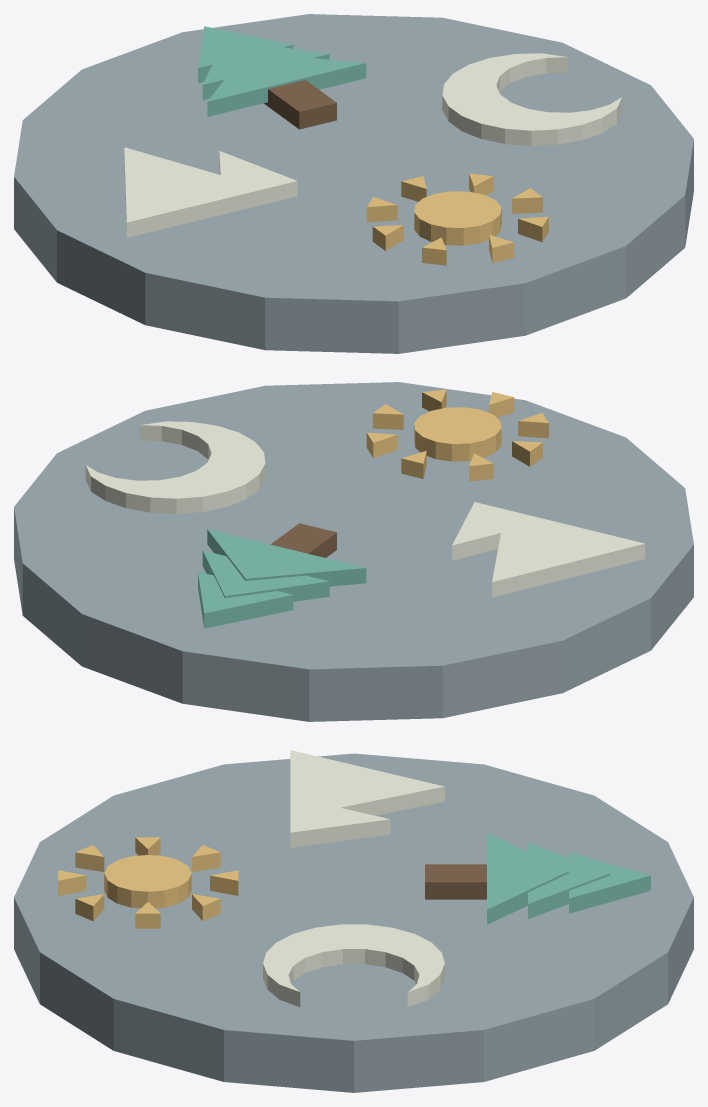
The model's file is dial_rotor.glb.
The picture shows the model from 3 angles, top to bottom: view 1: azimuth 30°, elevation 25°; view 2: azimuth 150°, elevation 25°; view 3: azimuth 270°, elevation 25°; orthographic projection.
Parts seen in each view (by area): view 1: Disc, Symbol_1_Moon, Symbol_3_Mountain, Symbol_2_Pine_2, Symbol_0_Sun, Symbol_2_Trunk, Symbol_2_Pine_1, Symbol_2_Pine_0, Symbol_0_Ray_4, Symbol_0_Ray_5, Symbol_0_Ray_1, Symbol_0_Ray_0 (+3 smaller); view 2: Disc, Symbol_3_Mountain, Symbol_1_Moon, Symbol_2_Pine_2, Symbol_0_Sun, Symbol_2_Pine_0, Symbol_2_Pine_1, Symbol_2_Trunk, Symbol_0_Ray_7, Symbol_0_Ray_0, Symbol_0_Ray_3, Symbol_0_Ray_4 (+3 smaller); view 3: Disc, Symbol_3_Mountain, Symbol_1_Moon, Symbol_0_Sun, Symbol_2_Pine_2, Symbol_2_Pine_0, Symbol_2_Pine_1, Symbol_2_Trunk, Symbol_0_Ray_1, Symbol_0_Ray_3, Symbol_0_Ray_6, Symbol_0_Ray_2 (+3 smaller).
Part boxes in pixels (x1,y1,x2,y2): Disc: [14, 14, 693, 353]; Symbol_1_Moon: [442, 53, 622, 145]; Symbol_3_Mountain: [124, 147, 297, 237]; Symbol_2_Pine_2: [207, 52, 366, 116]; Symbol_0_Sun: [414, 191, 501, 245]; Symbol_2_Trunk: [264, 80, 336, 129]; Symbol_2_Pine_1: [202, 39, 329, 99]; Symbol_2_Pine_0: [198, 26, 293, 83]; Symbol_0_Ray_4: [372, 225, 403, 250]; Symbol_0_Ray_5: [366, 197, 397, 222]; Symbol_0_Ray_1: [518, 216, 548, 241]; Symbol_0_Ray_0: [512, 188, 542, 213]; Disc: [14, 382, 693, 721]; Symbol_3_Mountain: [452, 502, 645, 597]; Symbol_1_Moon: [85, 421, 265, 513]; Symbol_2_Pine_2: [207, 529, 366, 586]; Symbol_0_Sun: [414, 407, 501, 461]; Symbol_2_Pine_0: [198, 571, 293, 628]; Symbol_2_Pine_1: [202, 550, 329, 601]; Symbol_2_Trunk: [270, 523, 336, 557]; Symbol_0_Ray_7: [366, 432, 397, 457]; Symbol_0_Ray_0: [372, 404, 403, 429]; Symbol_0_Ray_3: [518, 413, 548, 438]; Symbol_0_Ray_4: [512, 441, 542, 466]; Disc: [14, 753, 693, 1092]; Symbol_3_Mountain: [290, 750, 444, 847]; Symbol_1_Moon: [263, 924, 444, 1006]; Symbol_0_Sun: [104, 855, 191, 908]; Symbol_2_Pine_2: [487, 833, 568, 924]; Symbol_2_Pine_0: [569, 852, 650, 913]; Symbol_2_Pine_1: [528, 842, 609, 918]; Symbol_2_Trunk: [425, 864, 486, 899]; Symbol_0_Ray_1: [75, 894, 104, 921]; Symbol_0_Ray_3: [75, 845, 104, 871]; Symbol_0_Ray_6: [210, 870, 238, 895]; Symbol_0_Ray_2: [58, 870, 86, 895].
Size of the model in its own units: 1.42 by 0.18 by 1.42.
